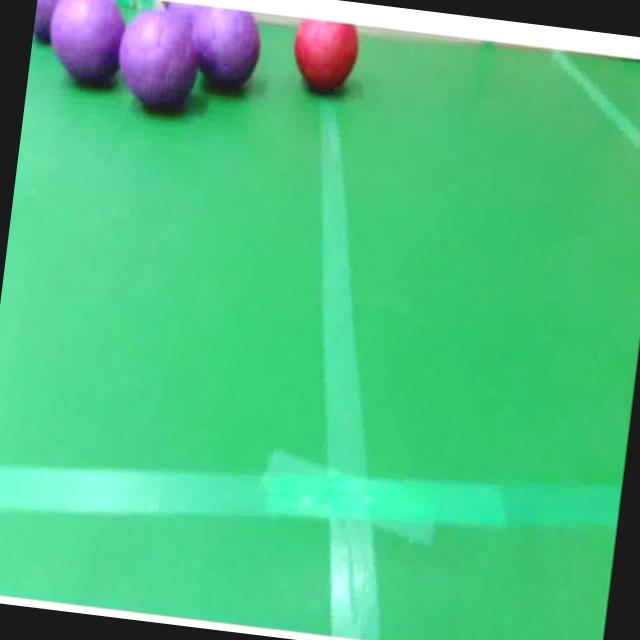purple_ball: (115, 8, 205, 116), (42, 0, 127, 93), (190, 8, 264, 92), (32, 0, 68, 47)
red_ball: (290, 20, 358, 96)
